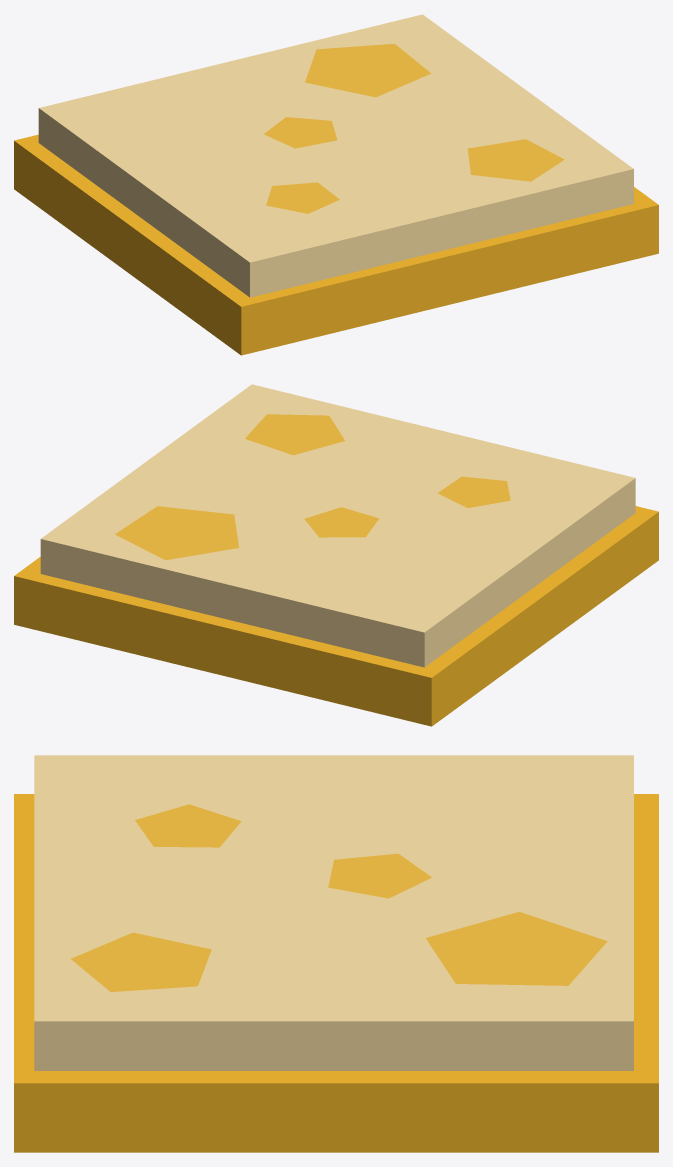
The model's file is Blacksmith_Platform.fbx.
3 views of the same model, one above another, from view 1: azimuth 30°, elevation 25°; view 2: azimuth 150°, elevation 25°; view 3: azimuth 270°, elevation 25° (orthographic). The views are drawn at different scales.
Visible parts, largest first — view 1: Blacksmith_Platform_Geo; view 2: Blacksmith_Platform_Geo; view 3: Blacksmith_Platform_Geo.
Part boxes in pixels (bbox=[...]): Blacksmith_Platform_Geo: bbox=[14, 14, 658, 355]; Blacksmith_Platform_Geo: bbox=[14, 384, 658, 726]; Blacksmith_Platform_Geo: bbox=[14, 755, 658, 1152].
Size of the model in its own units: 233 by 44.57 by 219.
